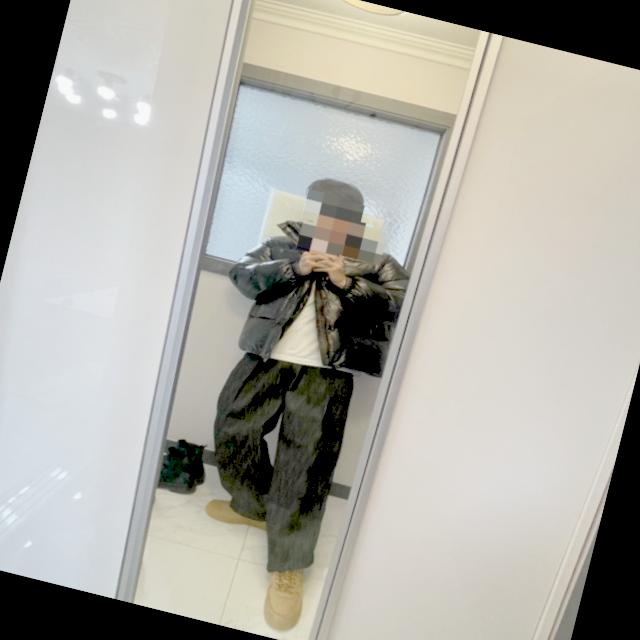denimpants: (180, 339, 360, 581)
padding: (220, 209, 414, 383)
